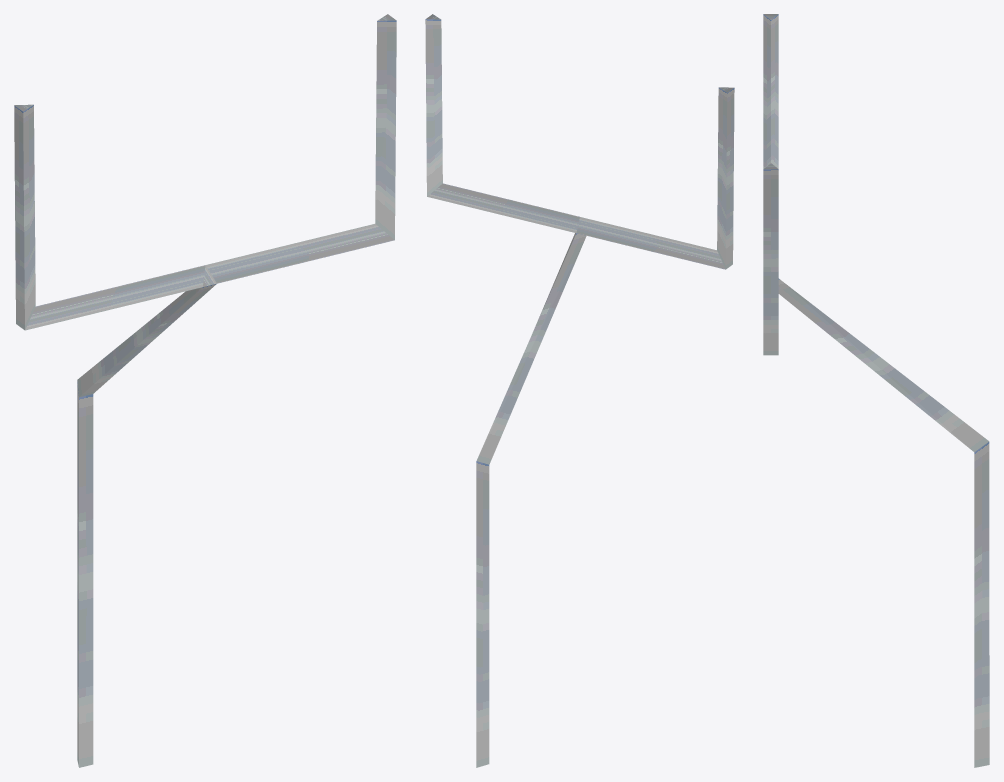
File: football.glb
The picture shows the model from 3 angles, left to right: view 1: azimuth 30°, elevation 25°; view 2: azimuth 150°, elevation 25°; view 3: azimuth 270°, elevation 25°; orthographic projection. The views are drawn at different scales.
Parts seen in each view (by area): view 1: football; view 2: football; view 3: football.
Boxes of the visible parts, x1=… form: football: x1=14, y1=14, x2=396, y2=767; football: x1=425, y1=14, x2=734, y2=767; football: x1=763, y1=14, x2=989, y2=767.
Bounding box in the file's own units: 372 × 753 × 229.
1 material, 1 textured.
